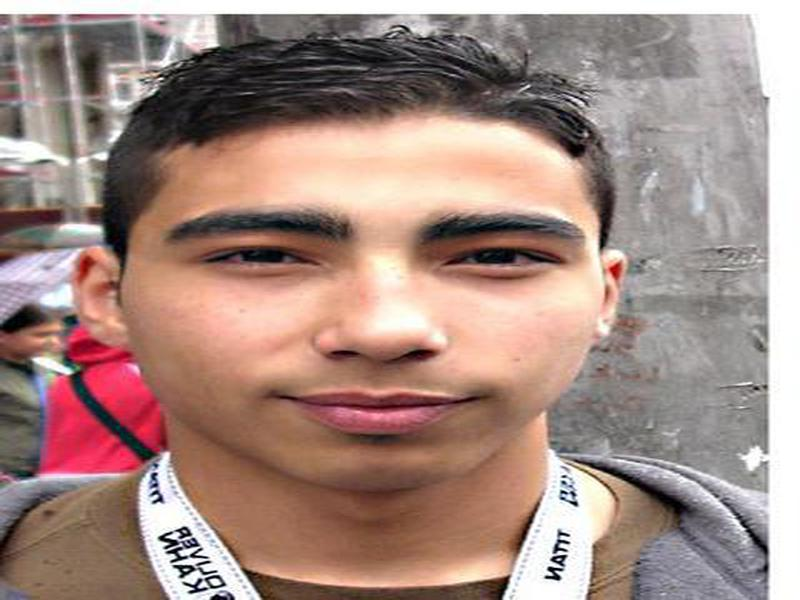without_mask: (125, 153, 599, 497)
